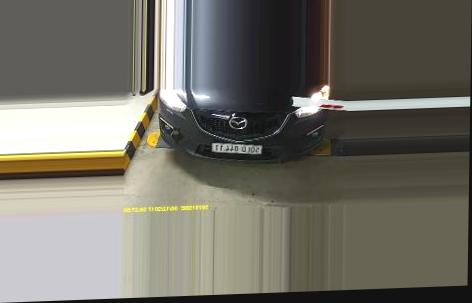License_Plate: (212, 140, 263, 155)
